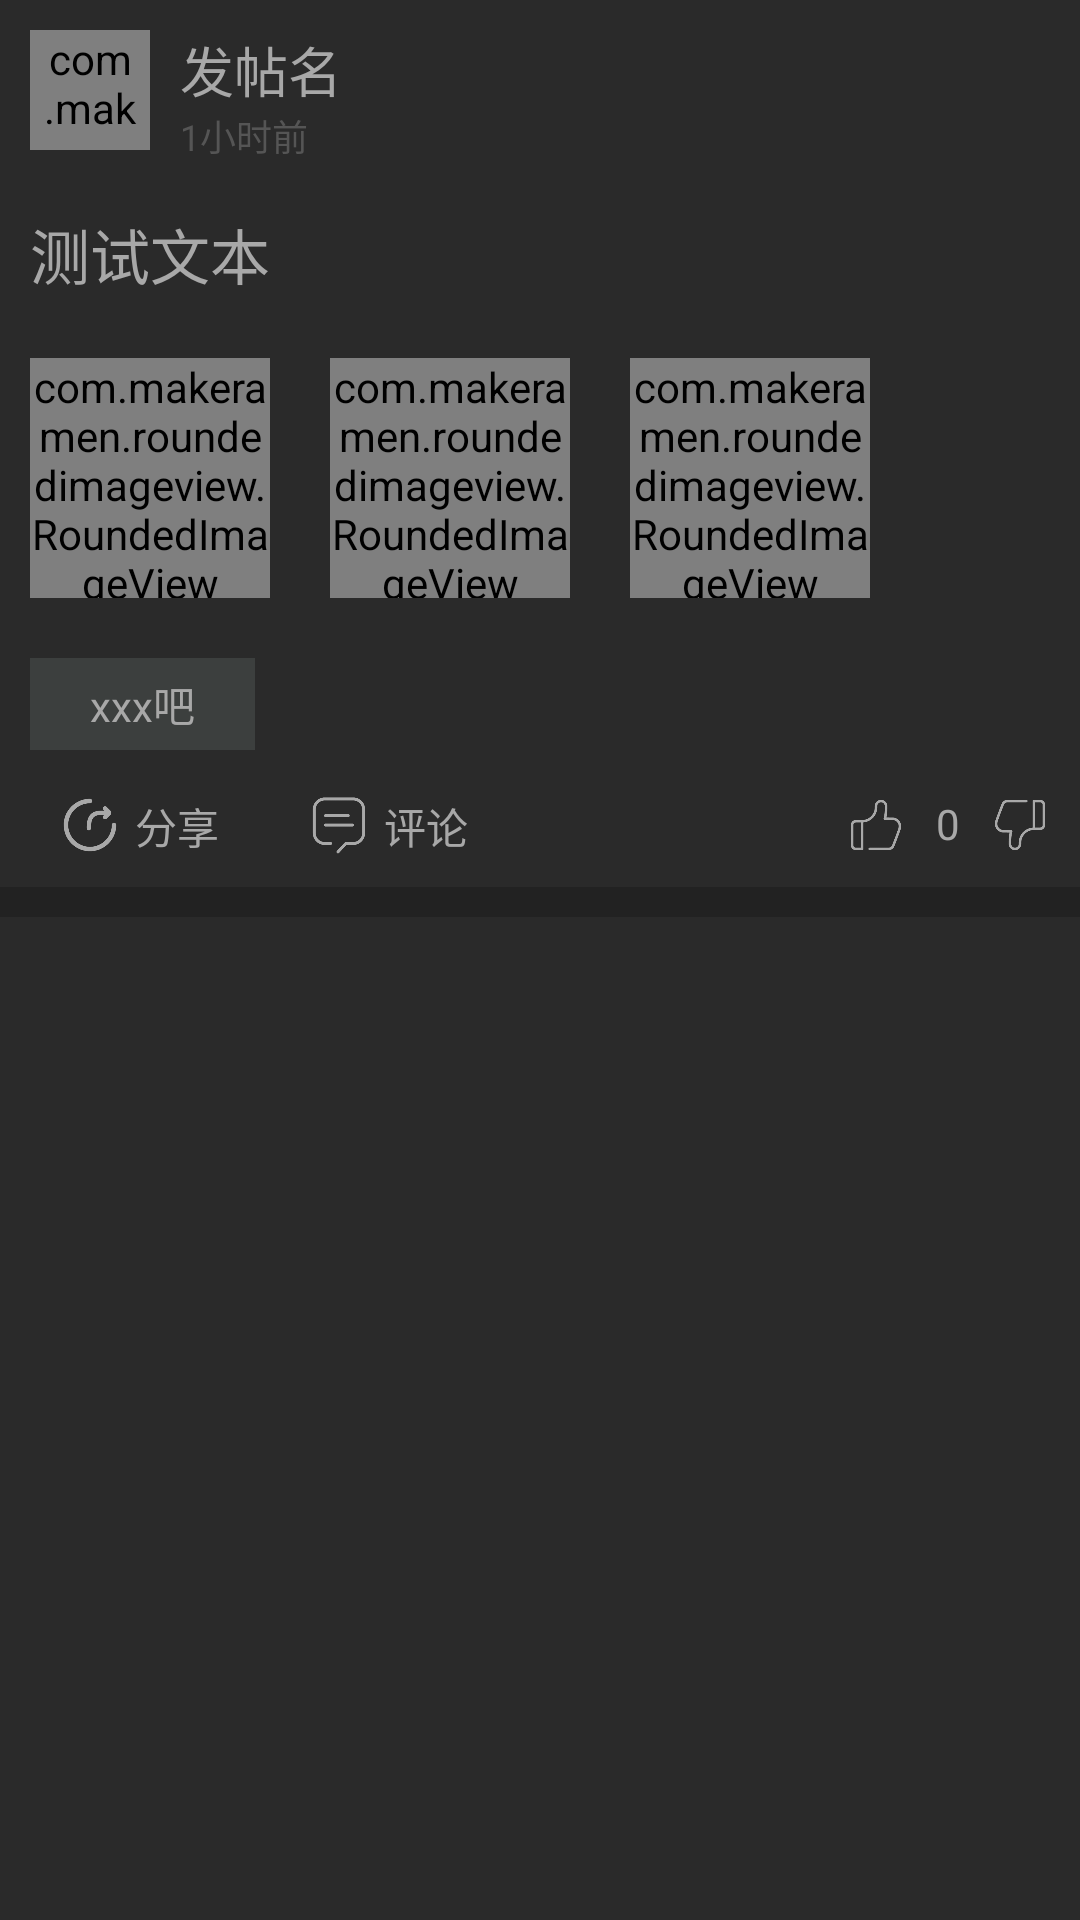

Where icons sit on this 1080 × 1920 app screen, as (x1, y1, x2, y2):
cai: (995, 800, 1045, 850)
zan: (851, 800, 901, 850)
